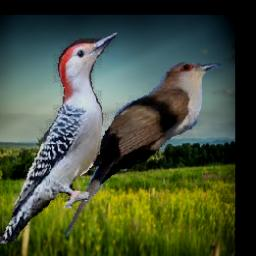Cuckoo: (64, 62, 224, 237)
Woodpecker: (0, 30, 118, 244)
